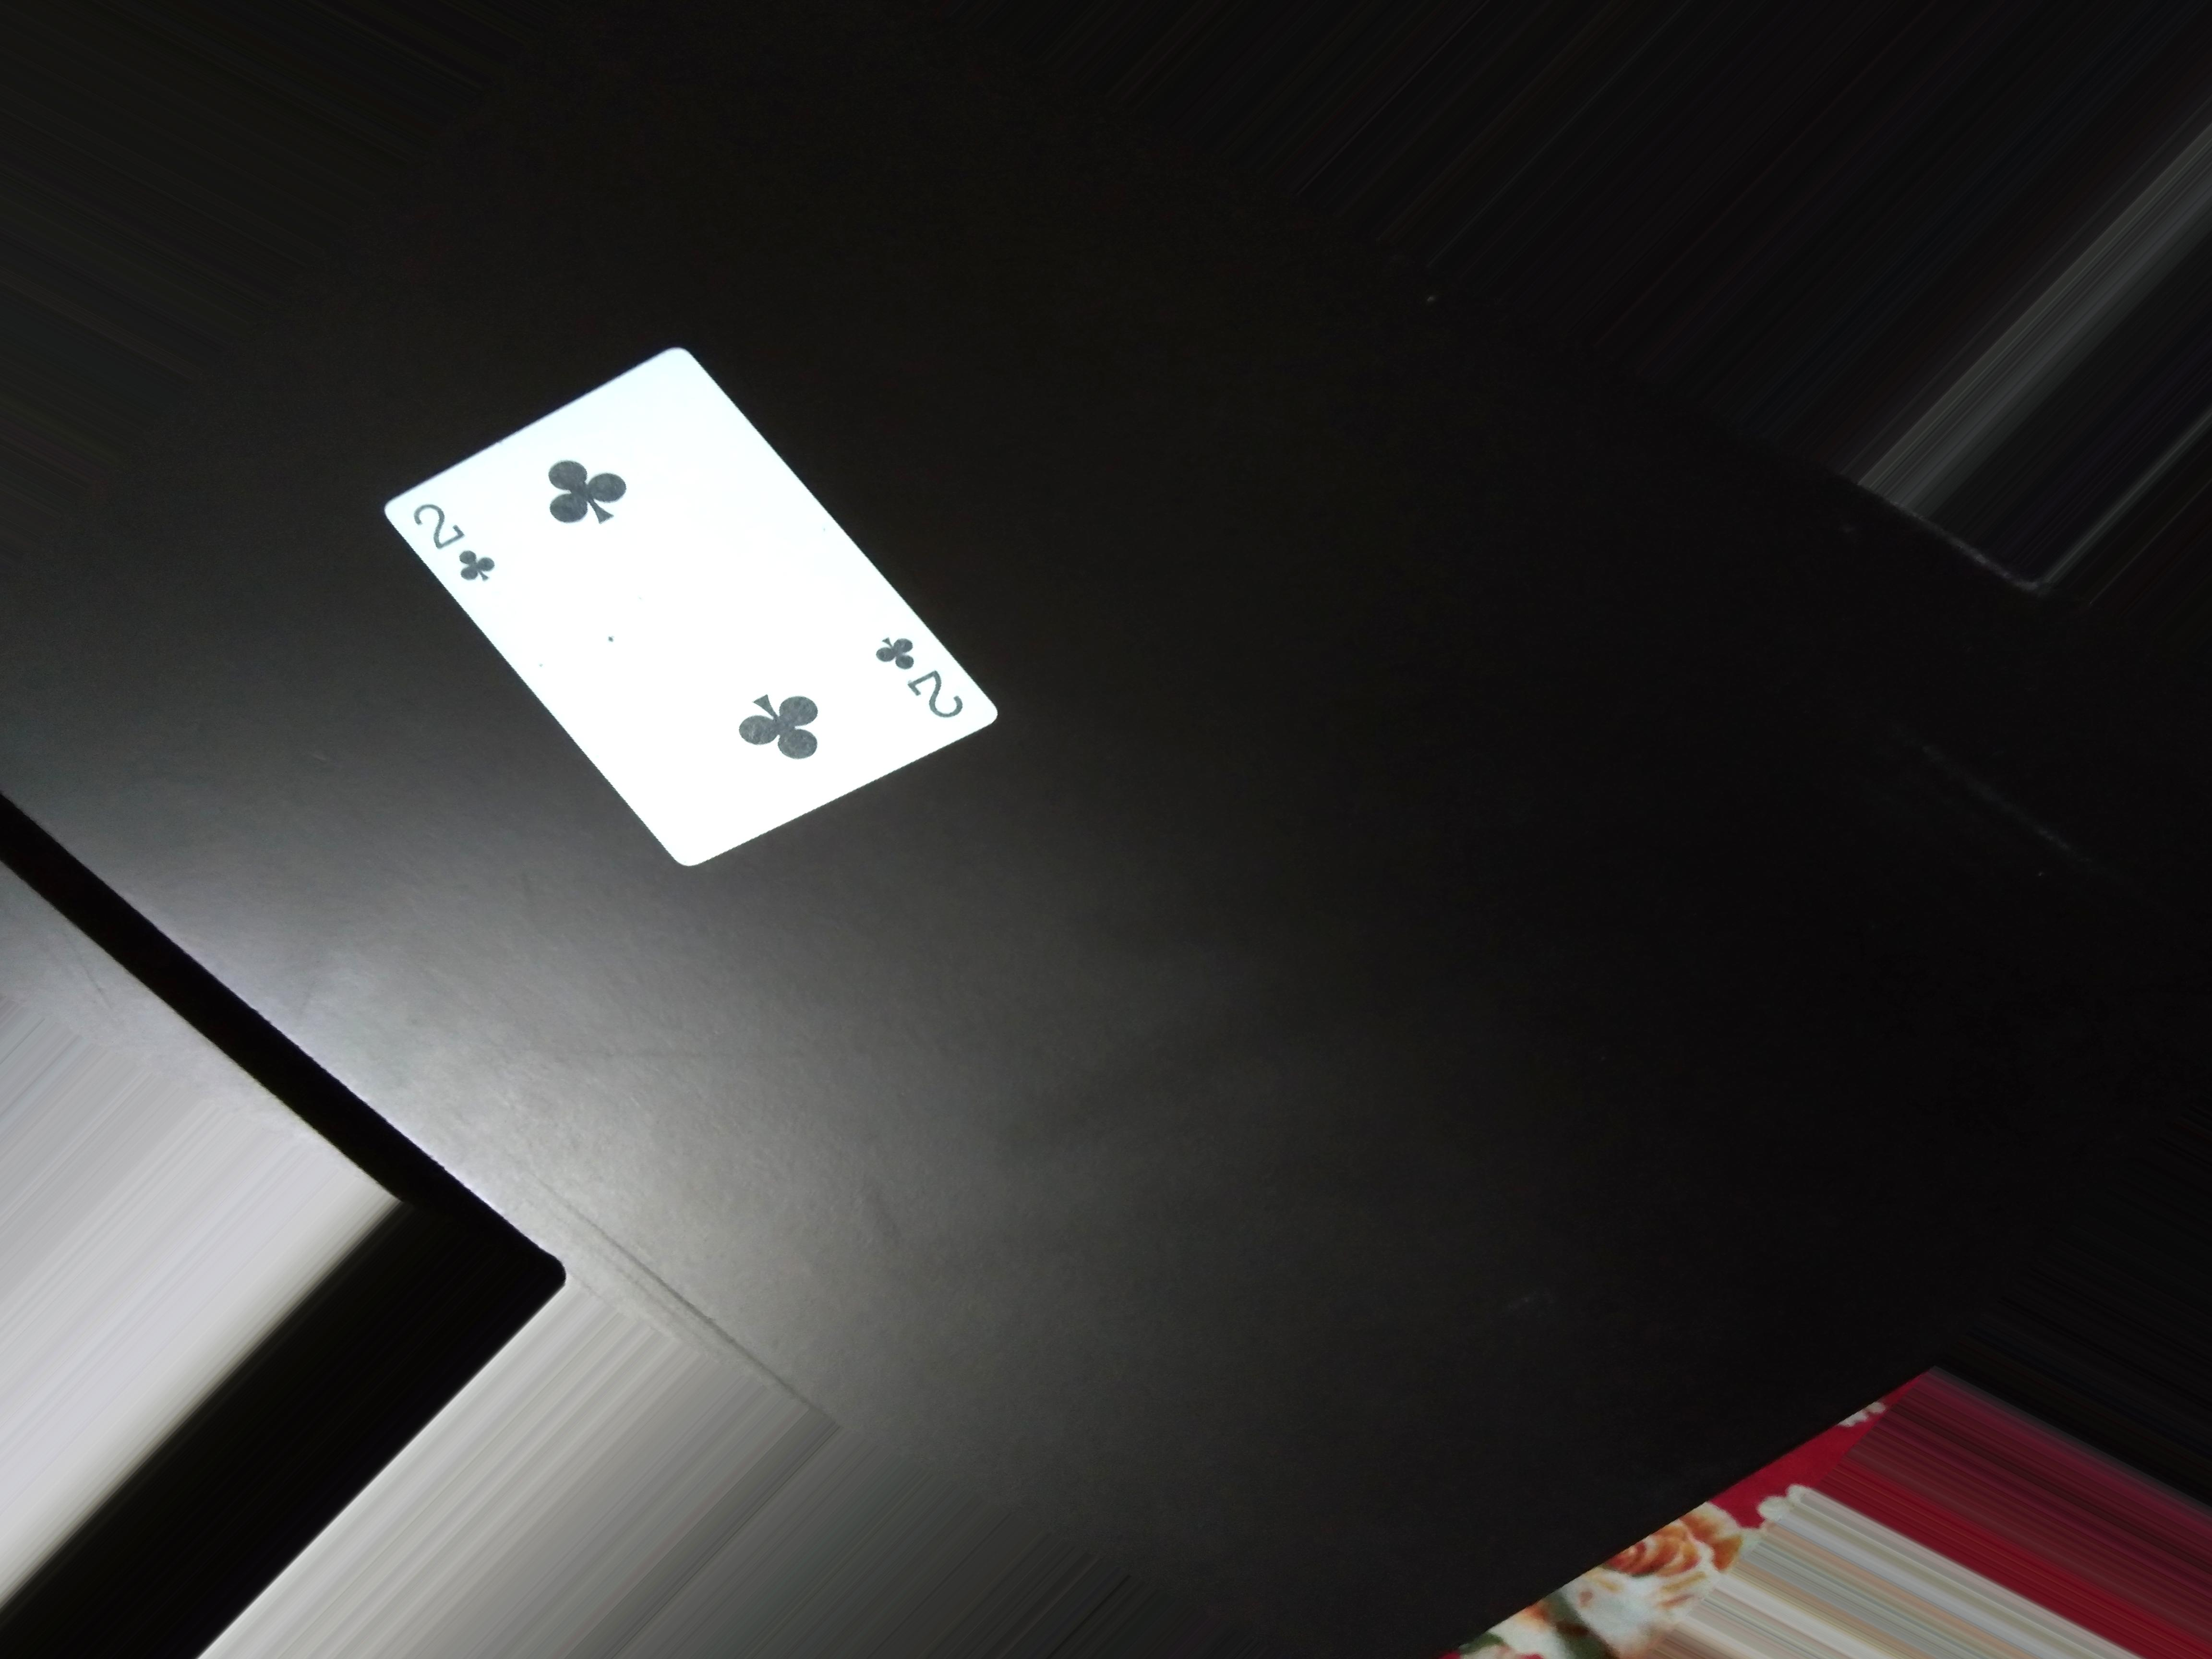2C: (418, 490, 505, 596)
